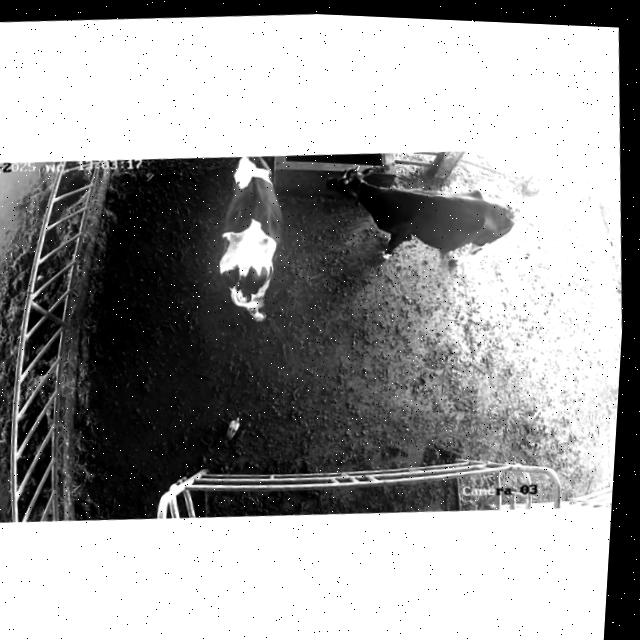stand: (308, 152, 525, 278), (194, 151, 301, 336)
